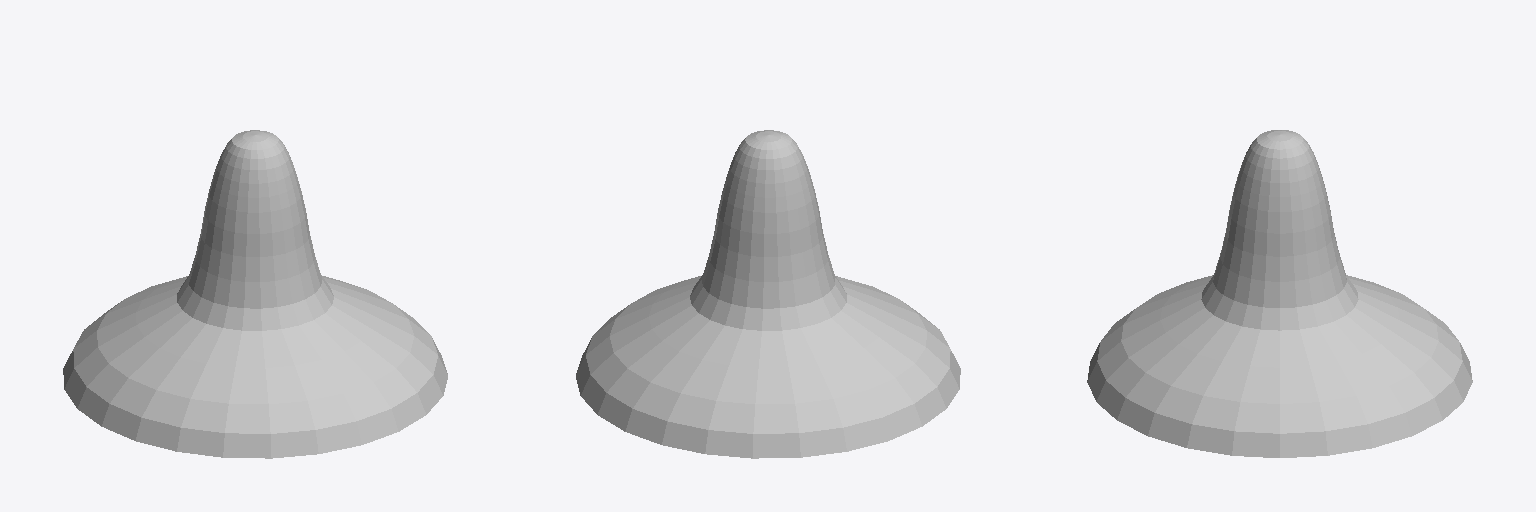
Rendered from lamp2.obj.
3 renders of one model, left to right at view 1: azimuth 30°, elevation 25°; view 2: azimuth 150°, elevation 25°; view 3: azimuth 270°, elevation 25°, orthographic.
Bounding box in the file's own units: 2.03 × 1.41 × 2.04.